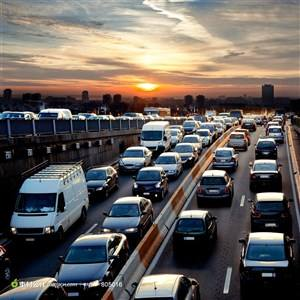car: (52, 231, 127, 298), (100, 196, 153, 242), (174, 208, 219, 256), (248, 157, 284, 192), (118, 146, 151, 174), (211, 147, 240, 170)
microbus: (9, 160, 89, 243), (140, 120, 170, 153), (36, 107, 71, 134)
suv: (196, 170, 234, 207)
